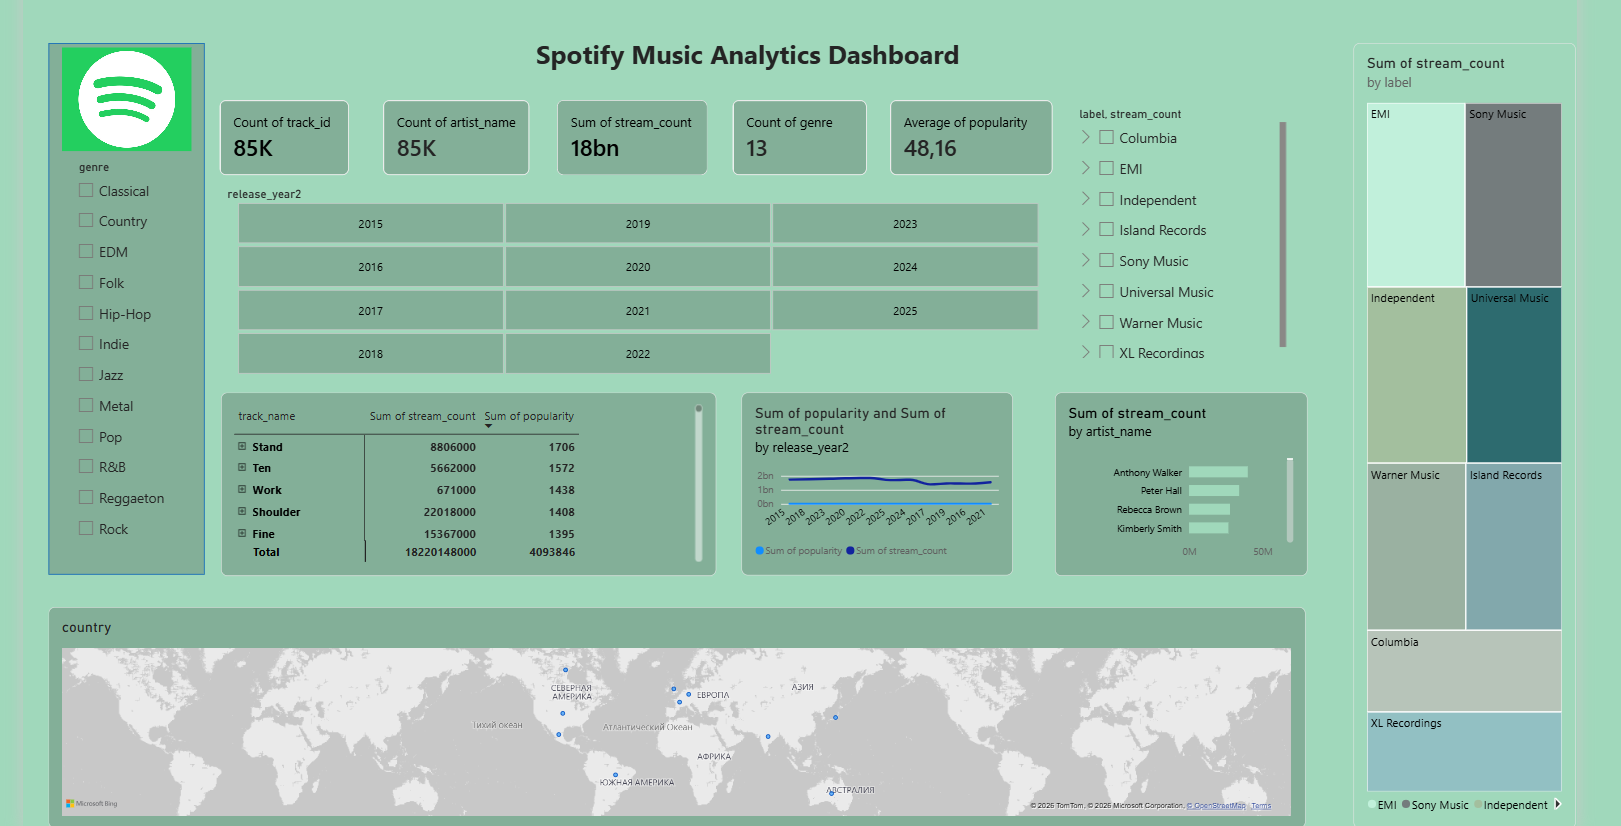

The page's visual inventory and layout, read from the dashboard file:
{"tool":"powerbi","page":{"name":"Page 1","canvas":[1920,1080],"ordinal":0},"visuals":[{"type":"map","fields":{"Category":["Sheet1.country"]},"box":[31.2,805,1553.4,275],"z":0},{"type":"cardVisual","fields":{"Data":["CountNonNull(Sheet1.track_id)"]},"box":[242.4,178.2,160.6,93.5],"z":1000},{"type":"cardVisual","fields":{"Data":["Count(Sheet1.genre)"]},"box":[876.3,178.2,166.5,93.5],"z":2000},{"type":"cardVisual","fields":{"Data":["Sum(Sheet1.stream_count)"]},"box":[660.1,178.2,186.9,93.5],"z":3000},{"type":"cardVisual","fields":{"Data":["CountNonNull(Sheet1.artist_name)"]},"box":[444,178.2,181.1,93.5],"z":4000},{"type":"cardVisual","fields":{"Data":["Avg(Sheet1.popularity)"]},"box":[1072,178.2,201.5,93.5],"z":5000},{"type":"clusteredBarChart","fields":{"Category":["Sheet1.artist_name"],"Y":["Sum(Sheet1.stream_count)"]},"box":[1275.3,539.4,311.8,226.8],"z":6000},{"type":"slicer","fields":{"Values":["Sheet1.label","Sheet1.stream_count"]},"box":[1298.3,187.1,263.6,309],"z":7000},{"type":"pivotTable","fields":{"Rows":["Sheet1.track_name","Sheet1.artist_name"],"Values":["Sum(Sheet1.stream_count)","Sum(Sheet1.popularity)"]},"box":[243.8,538.6,612.3,226.8],"z":8000},{"type":"lineChart","fields":{"Category":["Sheet1.release_year2"],"Y":["Sum(Sheet1.popularity)","Sum(Sheet1.stream_count)"]},"box":[887,539,335,226],"z":9000},{"type":"slicer","fields":{"Values":["Sheet1.release_year2"]},"box":[243.8,286.3,1029,232.4],"z":10000},{"type":"shape","box":[32,108,193,657],"z":11000},{"type":"slicer","fields":{"Values":["Sheet1.genre"]},"box":[61.3,251.2,133.2,493.2],"z":12000},{"type":"image","box":[48.2,113.1,160,128],"z":13000},{"type":"treemap","fields":{"Group":["Sheet1.label"],"Values":["Sum(Sheet1.stream_count)"]},"box":[1644.1,107.7,275,972.3],"z":14000},{"type":"textbox","box":[634.3,97.9,639,51.3],"z":15000}]}

Visuals, with their boxes on the page's 1920x1080 design canvas (x1, y1, x2, y2). These are canvas units, not pixel positions in the 1621x826 screenshot, which may show the page scaled, cropped or inside an application window:
map - Sheet1.country: select_region(31, 805, 1585, 1080)
cardVisual - CountNonNull(Sheet1.track_id): select_region(242, 178, 403, 272)
cardVisual - Count(Sheet1.genre): select_region(876, 178, 1043, 272)
cardVisual - Sum(Sheet1.stream_count): select_region(660, 178, 847, 272)
cardVisual - CountNonNull(Sheet1.artist_name): select_region(444, 178, 625, 272)
cardVisual - Avg(Sheet1.popularity): select_region(1072, 178, 1274, 272)
clusteredBarChart - Sheet1.artist_name x Sum(Sheet1.stream_count): select_region(1275, 539, 1587, 766)
slicer - Sheet1.label x Sheet1.stream_count: select_region(1298, 187, 1562, 496)
pivotTable - Sheet1.track_name x Sheet1.artist_name: select_region(244, 539, 856, 765)
lineChart - Sheet1.release_year2 x Sum(Sheet1.popularity): select_region(887, 539, 1222, 765)
slicer - Sheet1.release_year2: select_region(244, 286, 1273, 519)
shape: select_region(32, 108, 225, 765)
slicer - Sheet1.genre: select_region(61, 251, 194, 744)
image: select_region(48, 113, 208, 241)
treemap - Sheet1.label x Sum(Sheet1.stream_count): select_region(1644, 108, 1919, 1080)
textbox: select_region(634, 98, 1273, 149)
